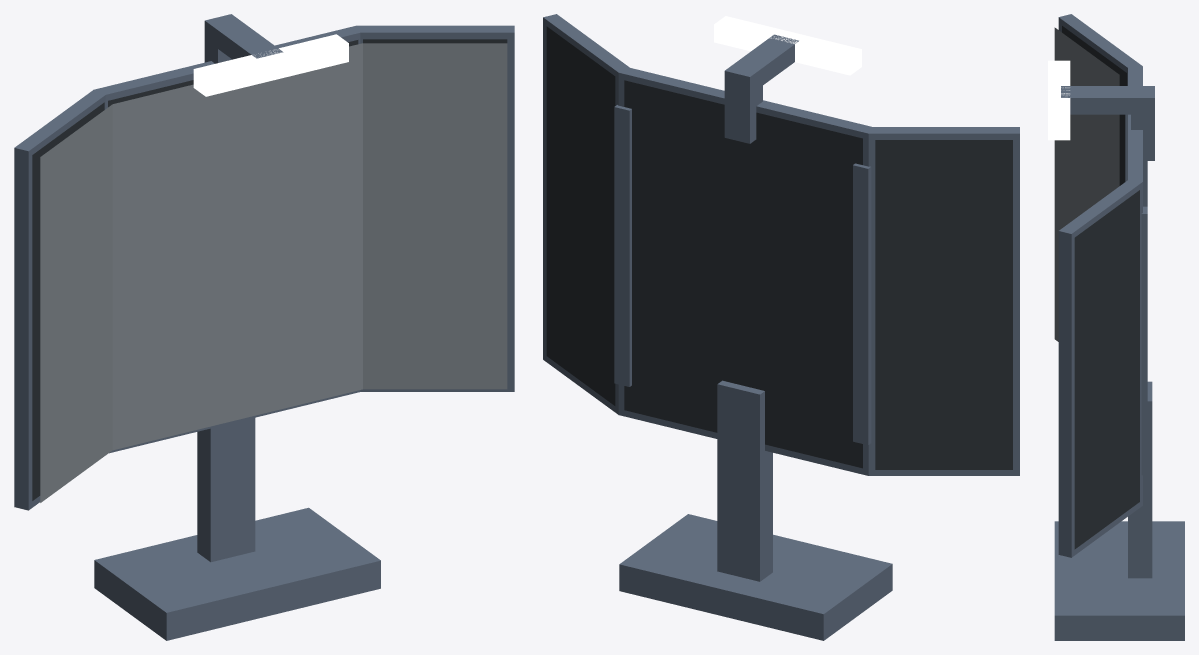
The picture shows the model from 3 angles, left to right: view 1: azimuth 30°, elevation 25°; view 2: azimuth 150°, elevation 25°; view 3: azimuth 270°, elevation 25°; orthographic projection. The views are drawn at different scales.
Parts seen in each view (by area): view 1: makeup-face-center, makeup-face-right, makeup-face-left, makeup-base, makeup-frame-left, makeup-post, makeup-frame-right, makeup-lamp, makeup-back-left, makeup-frame-center, makeup-lamp-arm, makeup-back-right; view 2: makeup-back-center, makeup-back-left, makeup-back-right, makeup-base, makeup-post, makeup-frame-left, makeup-hinge-left, makeup-frame-center, makeup-hinge-right, makeup-lamp, makeup-frame-right, makeup-lamp-arm (+1 smaller); view 3: makeup-back-right, makeup-base, makeup-face-left, makeup-frame-right, makeup-post, makeup-lamp-arm, makeup-hinge-right, makeup-lamp, makeup-frame-left, makeup-frame-center, makeup-back-left, makeup-lamp-riser (+1 smaller).
Boxes of the visible parts, x1,y1,x2,y2 form: makeup-face-center: (112, 43, 362, 450); makeup-face-right: (363, 43, 507, 389); makeup-face-left: (40, 104, 112, 502); makeup-base: (94, 507, 380, 640); makeup-frame-left: (14, 90, 105, 510); makeup-post: (197, 416, 255, 562); makeup-frame-right: (355, 25, 514, 391); makeup-lamp: (193, 34, 348, 96); makeup-back-left: (32, 102, 104, 500); makeup-frame-center: (93, 26, 363, 453); makeup-lamp-arm: (204, 14, 283, 59); makeup-back-right: (363, 39, 507, 43); makeup-back-center: (624, 80, 862, 468); makeup-back-left: (875, 140, 1012, 469); makeup-back-right: (546, 26, 615, 405); makeup-base: (619, 514, 892, 640); makeup-post: (717, 380, 772, 581); makeup-frame-left: (868, 127, 1019, 475); makeup-hinge-left: (853, 163, 871, 445); makeup-frame-center: (618, 67, 875, 475); makeup-hinge-right: (614, 105, 631, 386); makeup-lamp: (714, 16, 861, 75); makeup-frame-right: (543, 14, 629, 414); makeup-lamp-arm: (724, 34, 798, 94); makeup-back-right: (1074, 190, 1139, 549); makeup-base: (1054, 521, 1184, 640); makeup-face-left: (1054, 27, 1119, 341); makeup-frame-right: (1058, 179, 1142, 557); makeup-post: (1128, 381, 1152, 578); makeup-lamp-arm: (1061, 86, 1154, 114); makeup-hinge-right: (1141, 206, 1147, 475); makeup-lamp: (1048, 60, 1070, 140); makeup-frame-left: (1058, 14, 1142, 85); makeup-frame-center: (1128, 66, 1142, 181); makeup-back-left: (1062, 26, 1126, 185); makeup-lamp-riser: (1131, 103, 1154, 160).
Bounding box in the file's own units: 0.5596 × 0.595 × 0.147.
